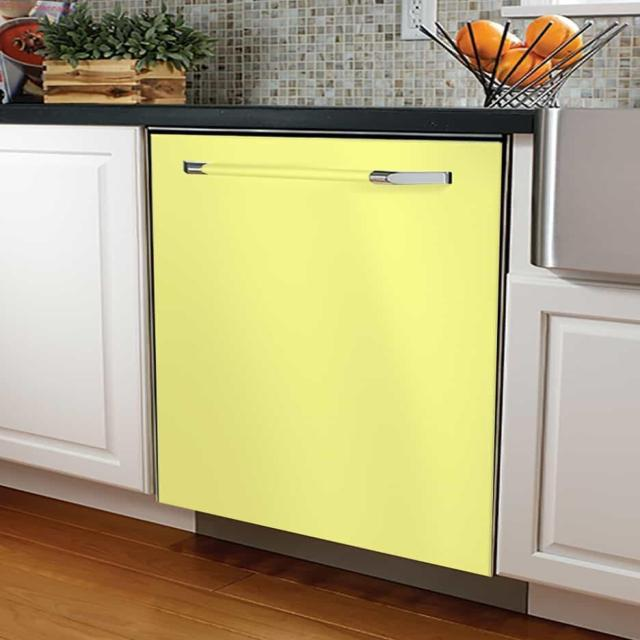dishwasher: (134, 115, 514, 580)
